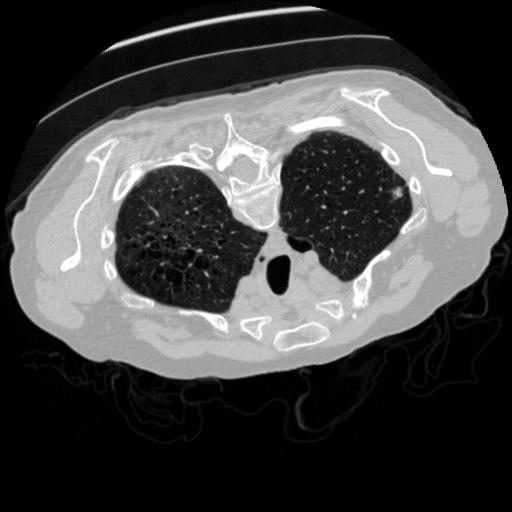nodule: (389, 186, 405, 202)
